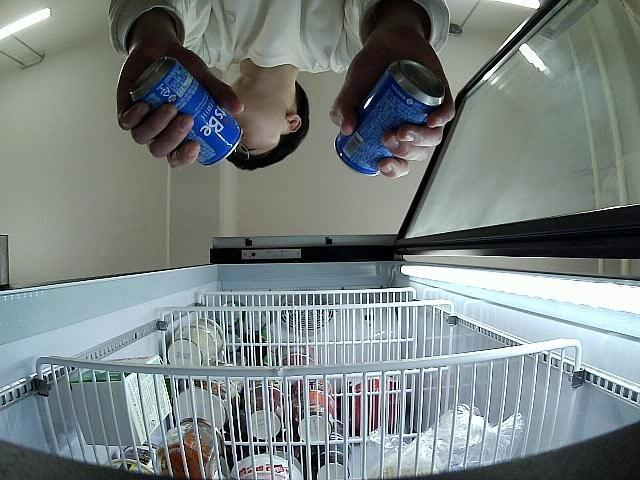15_letsbe: (335, 56, 446, 178), (128, 56, 244, 168)
